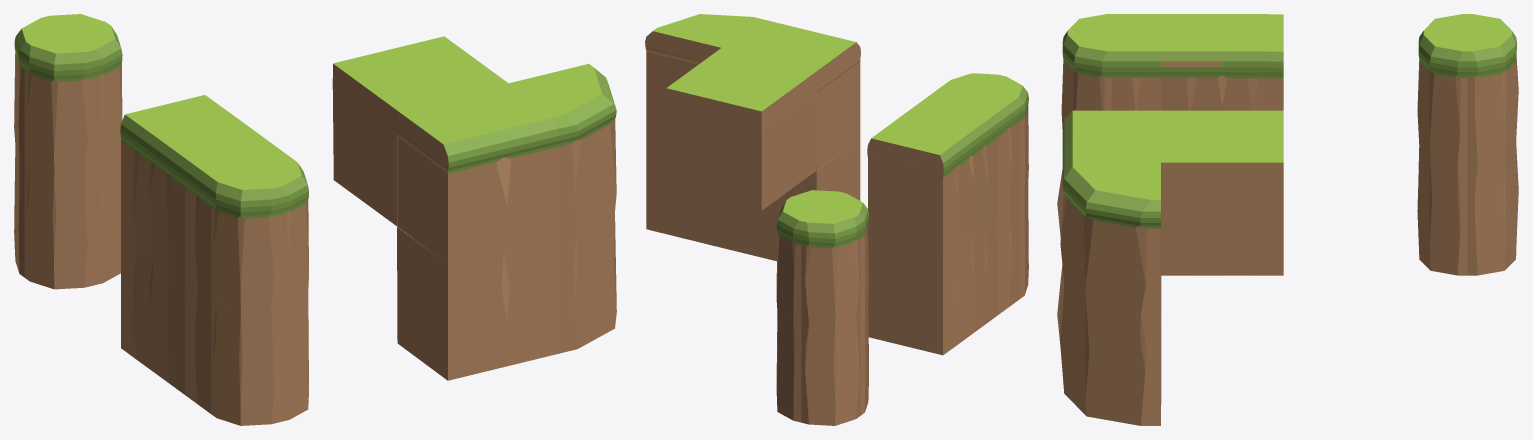
The model's file is simplePatch2.fbx.
3 renders of one model, left to right at view 1: azimuth 30°, elevation 25°; view 2: azimuth 150°, elevation 25°; view 3: azimuth 270°, elevation 25°, orthographic. The views are drawn at different scales.
Visible parts, largest first — view 1: Cube.054, Cube.102, Cube.062, Cube.064, Cube.052, Cube.094, Cube.063, Cube.081, Cube.053, Cube.095, Cube.105; view 2: Cube.052, Cube.063, Cube.095, Cube.064, Cube.081, Cube.054, Cube.062, Cube.053, Cube.102, Cube.105, Cube.094; view 3: Cube.052, Cube.053, Cube.064, Cube.063, Cube.105, Cube.081, Cube.062, Cube.054, Cube.095.
Boxes of the visible parts, x1,y1,x2,y2 form: Cube.054: (397,83,559,263); Cube.102: (397,227,559,380); Cube.062: (184,141,308,309); Cube.064: (14,14,122,172); Cube.052: (332,36,507,226); Cube.094: (185,279,308,425); Cube.063: (120,95,268,278); Cube.081: (14,145,120,289); Cube.053: (509,64,616,236); Cube.095: (121,232,185,394); Cube.105: (559,212,616,353); Cube.052: (666,48,816,210); Cube.063: (867,98,998,255); Cube.095: (868,215,998,355); Cube.064: (776,190,868,325); Cube.081: (776,303,868,425); Cube.054: (722,19,860,170); Cube.062: (926,73,1028,214); Cube.053: (645,14,760,134); Cube.102: (721,139,860,261); Cube.105: (646,129,721,247); Cube.094: (998,185,1028,314); Cube.052: (1161,110,1283,273); Cube.053: (1060,162,1161,314); Cube.064: (1417,14,1518,164); Cube.063: (1161,14,1283,110); Cube.105: (1060,281,1161,425); Cube.081: (1417,145,1518,275); Cube.062: (1061,14,1160,128); Cube.054: (1057,110,1160,238); Cube.095: (1161,211,1283,275).
Size of the model in its own units: 3.75 by 3.76 by 2.
